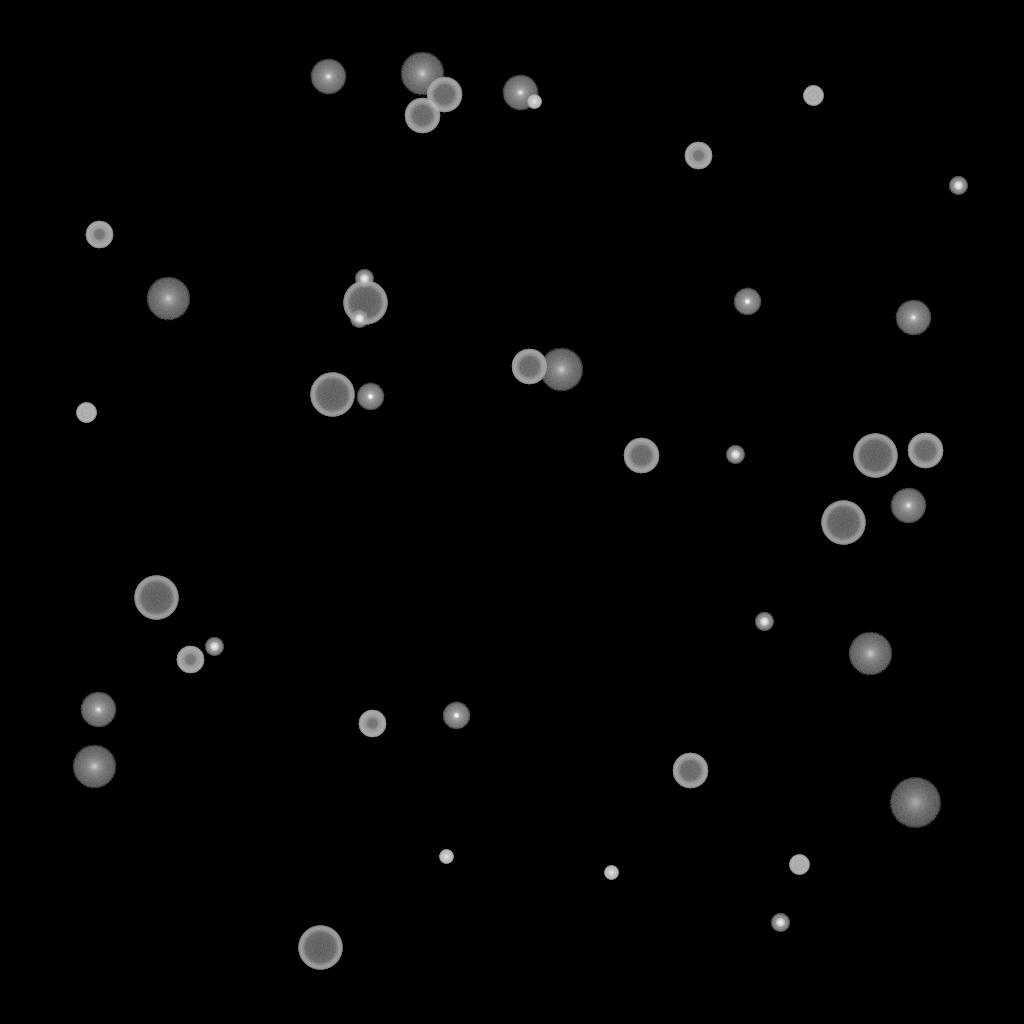depth:-10: (733, 288, 761, 316), (442, 702, 470, 730), (356, 383, 384, 411)
depth:-20: (350, 310, 368, 328), (205, 638, 223, 656), (755, 613, 773, 631), (726, 446, 744, 464), (355, 270, 373, 288), (949, 177, 967, 195), (771, 914, 789, 932)
depth:-30: (527, 95, 541, 109), (604, 866, 618, 880), (439, 850, 453, 864)
depth:-40: (789, 855, 809, 875), (803, 86, 823, 106), (76, 403, 96, 423)
depth:-50: (176, 646, 204, 674), (684, 142, 712, 170), (358, 710, 386, 738), (85, 221, 113, 249)
depth:-60: (404, 98, 440, 134), (623, 438, 659, 474), (511, 349, 547, 385), (672, 753, 708, 789), (426, 77, 462, 113), (907, 433, 943, 469)
depth:-70: (298, 926, 342, 970), (821, 501, 865, 545), (134, 576, 178, 620), (853, 434, 897, 478), (343, 281, 387, 325), (310, 373, 354, 417)
depth:0: (502, 75, 538, 111), (895, 300, 931, 336), (890, 488, 926, 524), (80, 692, 116, 728), (310, 59, 346, 95)
depth:10: (72, 745, 116, 789), (848, 632, 892, 676), (146, 277, 190, 321), (539, 348, 583, 392), (400, 52, 444, 96)
depth:20: (889, 778, 941, 828)
